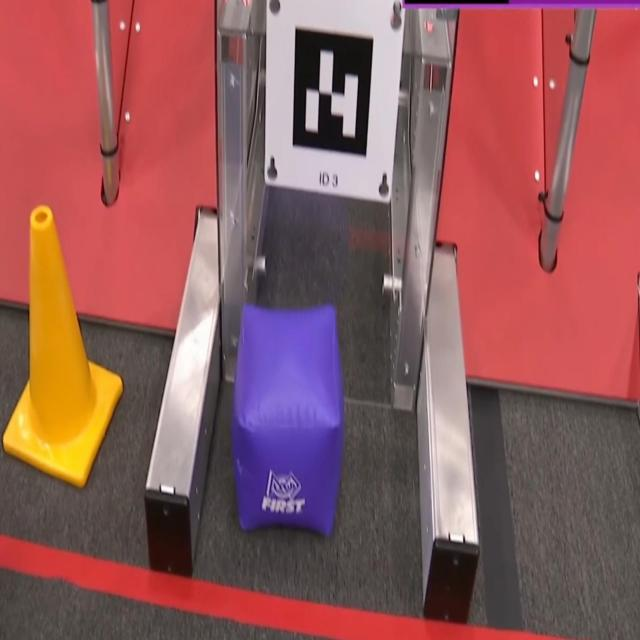frc_cone: (0, 199, 122, 490)
frc_cube: (232, 302, 345, 541)
